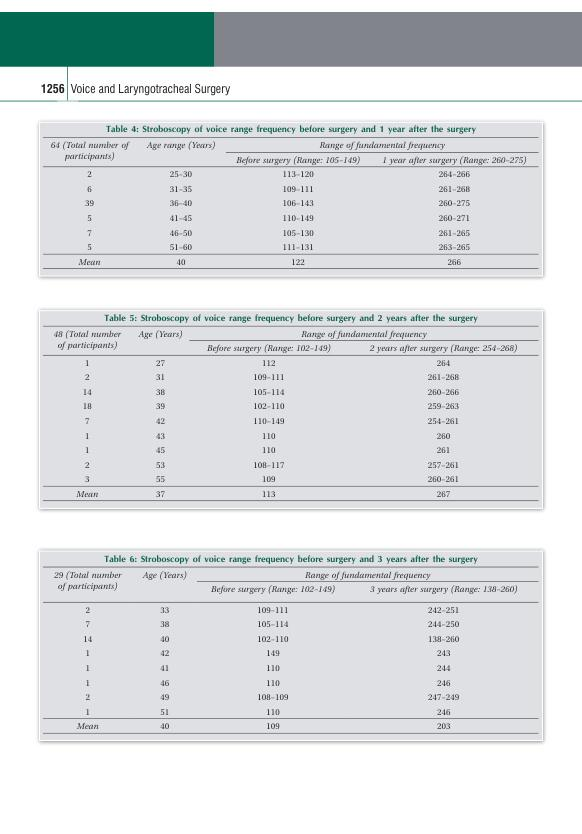caption: (104, 123, 478, 135), (102, 554, 480, 565), (103, 313, 480, 324)
header: (69, 82, 231, 98)
table: (39, 325, 543, 504), (39, 566, 543, 735), (40, 136, 540, 272)
